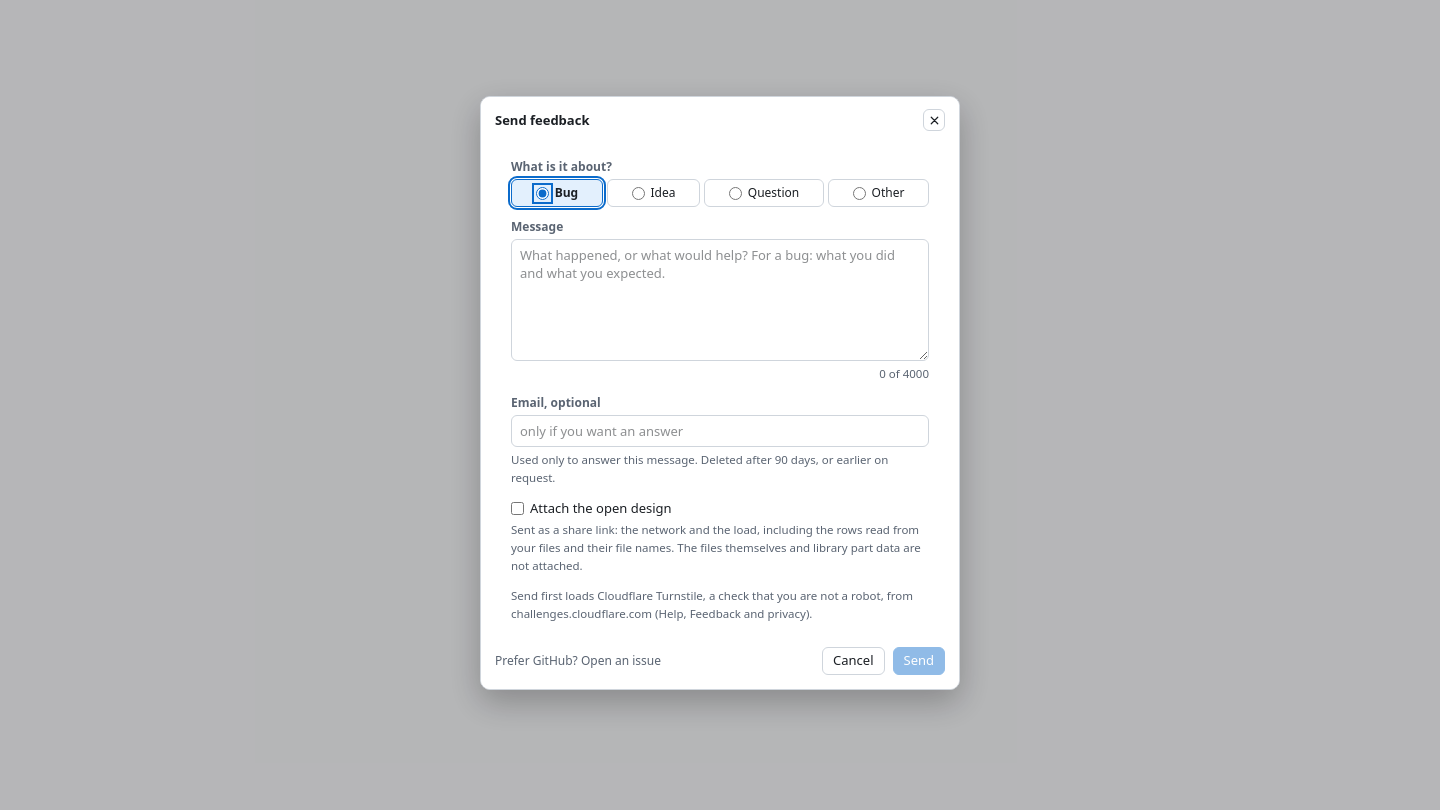
Test case: the dialog › without the tick no design is posted; a failure keeps the text
Replace the text in the text box with placeholder "What happened" with "An idea for the gain table.": (720, 300) [511,239,929,361]
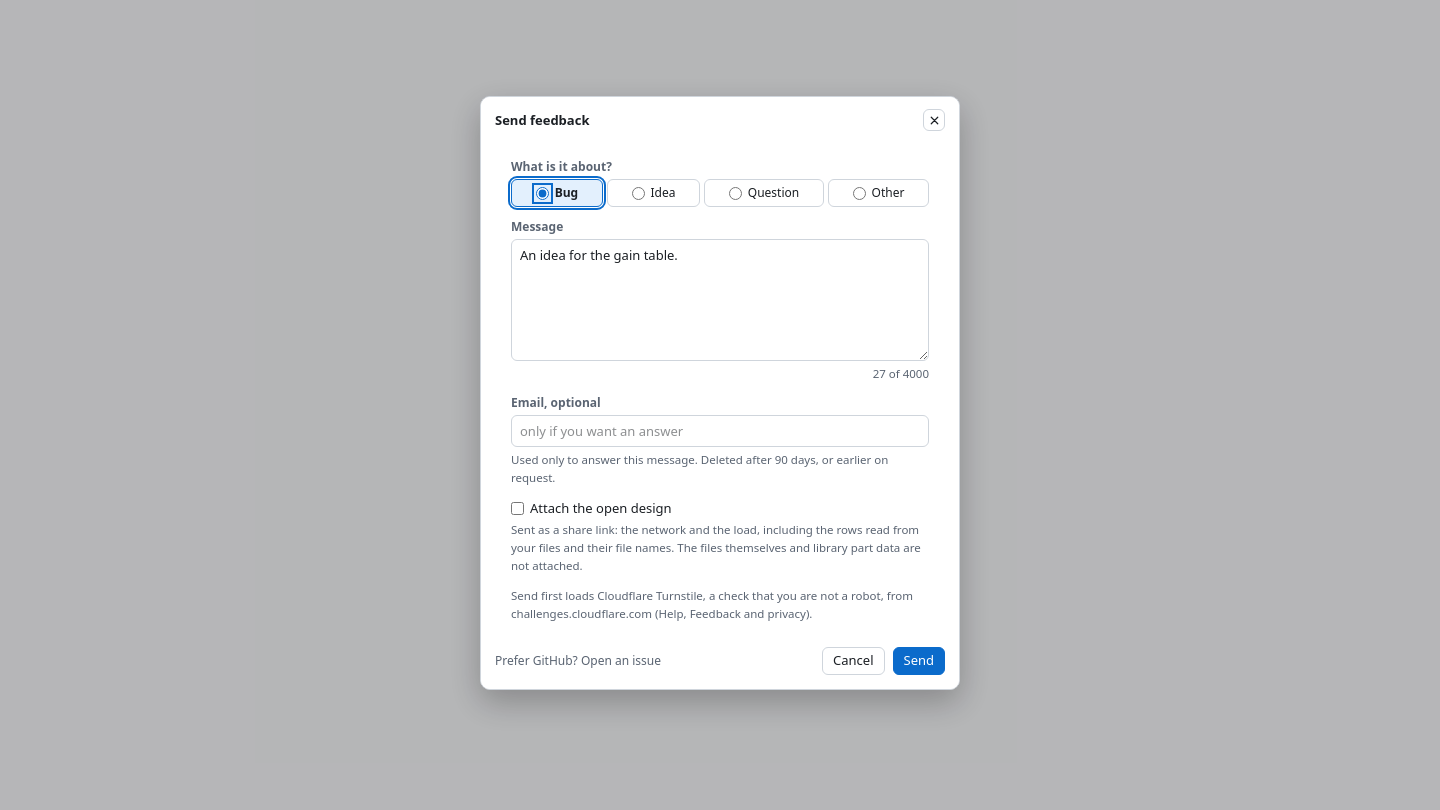
Click the button "Send": (919, 661) [892,647,945,675]
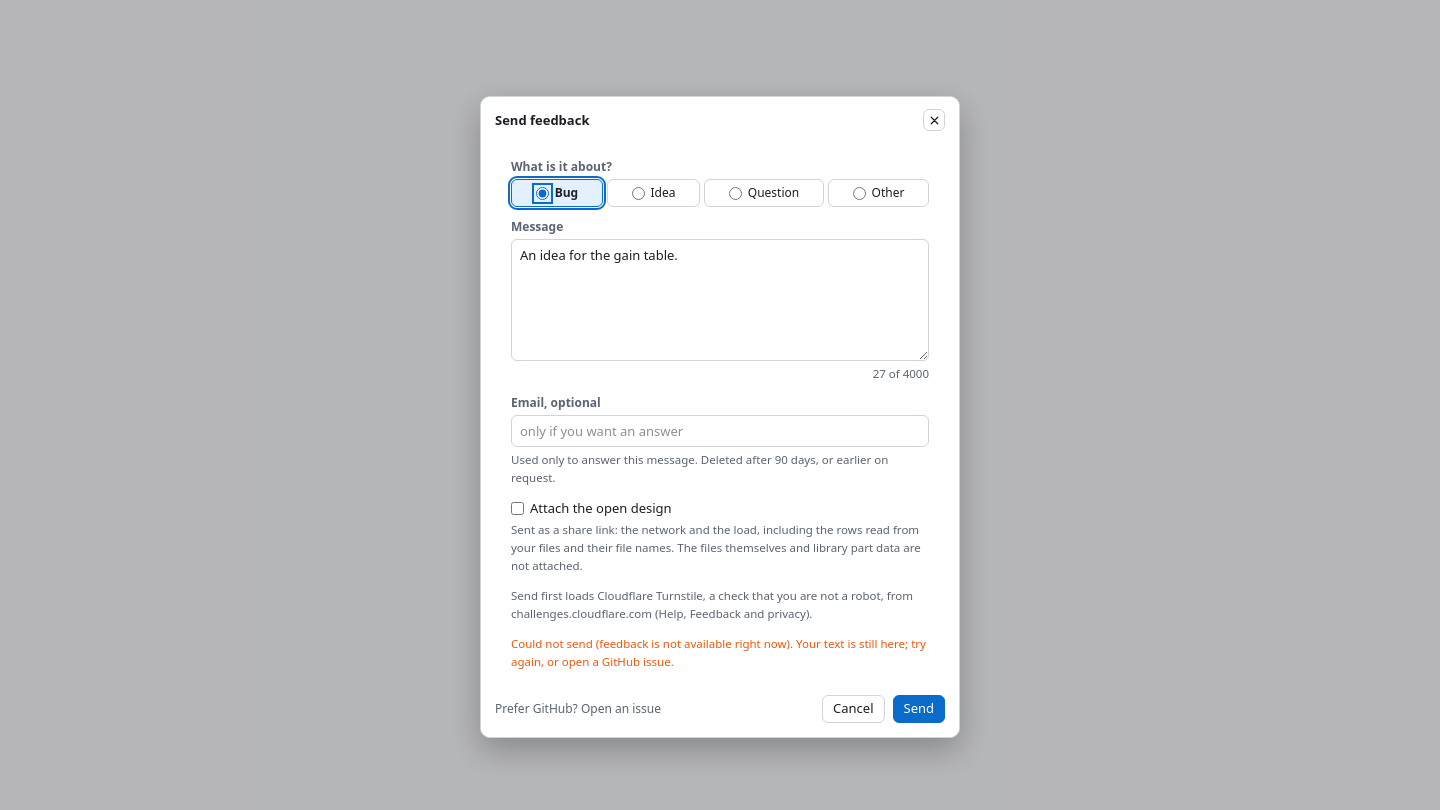
Expected: the message shows "Could not send (feedback is not available right now). Your text is still here", [511,635,929,671]
